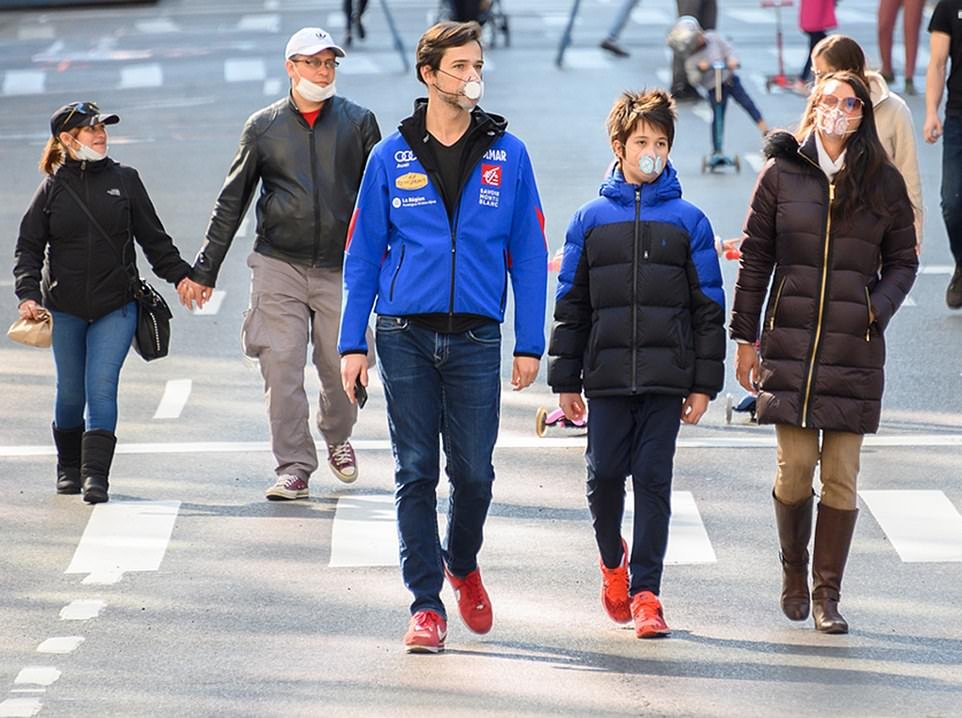person: (331, 10, 552, 661), (725, 62, 930, 643), (538, 78, 731, 651), (181, 22, 400, 503), (10, 92, 192, 502)
